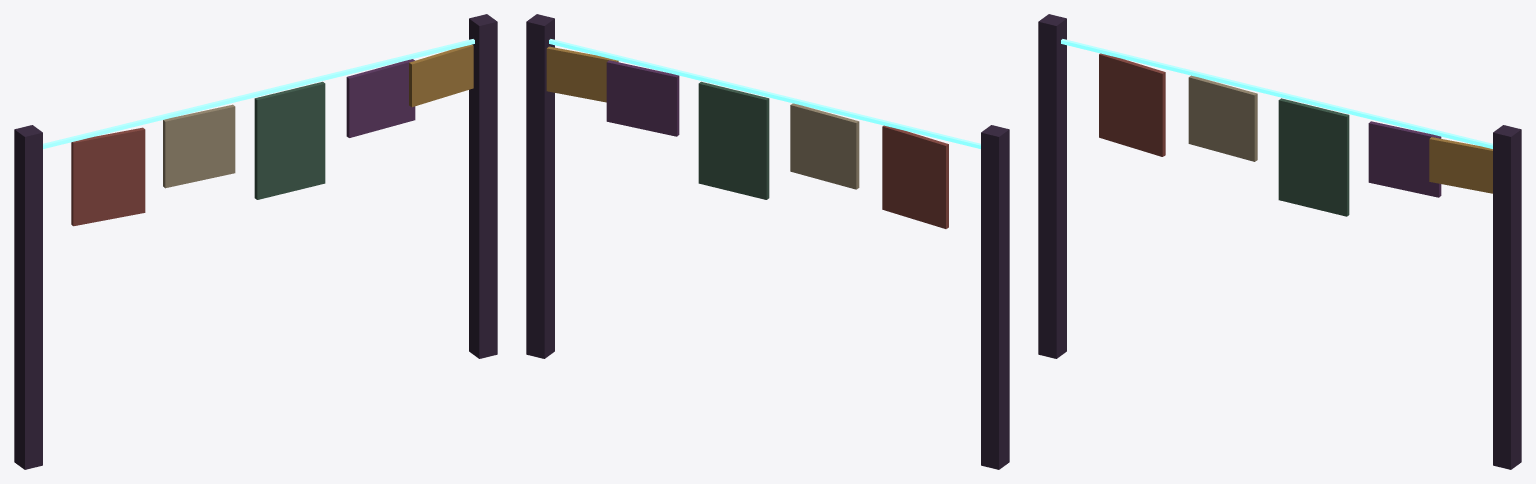
The model's file is corde_linge_modele.glb.
The picture shows the model from 3 angles, left to right: view 1: azimuth 30°, elevation 25°; view 2: azimuth 150°, elevation 25°; view 3: azimuth 330°, elevation 25°; orthographic projection.
Visible parts, largest first — view 1: P1.010, P2.010, P6.011, P4.012, P5.004, P7.011, P8.011, P3.005; view 2: P1.010, P2.010, P6.011, P4.012, P5.004, P7.011, P8.011, P3.005; view 3: P2.010, P1.010, P6.011, P4.012, P5.004, P7.011, P8.011, P3.005.
Boxes of the visible parts, left/top/right/bottom form: P1.010: left=14, top=125, right=42, bottom=469; P2.010: left=469, top=14, right=497, bottom=358; P6.011: left=254, top=81, right=325, bottom=199; P4.012: left=71, top=127, right=145, bottom=226; P5.004: left=163, top=104, right=235, bottom=188; P7.011: left=346, top=59, right=415, bottom=137; P8.011: left=409, top=44, right=473, bottom=107; P3.005: left=43, top=39, right=474, bottom=148; P1.010: left=981, top=125, right=1009, bottom=469; P2.010: left=526, top=14, right=554, bottom=358; P6.011: left=698, top=81, right=769, bottom=199; P4.012: left=882, top=125, right=948, bottom=228; P5.004: left=790, top=103, right=859, bottom=189; P7.011: left=606, top=60, right=679, bottom=136; P8.011: left=546, top=46, right=618, bottom=102; P3.005: left=549, top=39, right=980, bottom=148; P2.010: left=1493, top=125, right=1521, bottom=469; P1.010: left=1038, top=14, right=1066, bottom=358; P6.011: left=1278, top=98, right=1349, bottom=216; P4.012: left=1099, top=53, right=1165, bottom=156; P5.004: left=1188, top=75, right=1257, bottom=161; P7.011: left=1368, top=121, right=1441, bottom=197; P8.011: left=1429, top=137, right=1492, bottom=193; P3.005: left=1061, top=39, right=1492, bottom=148.
Size of the model in its own units: 2.08 by 1.4 by 0.08.
